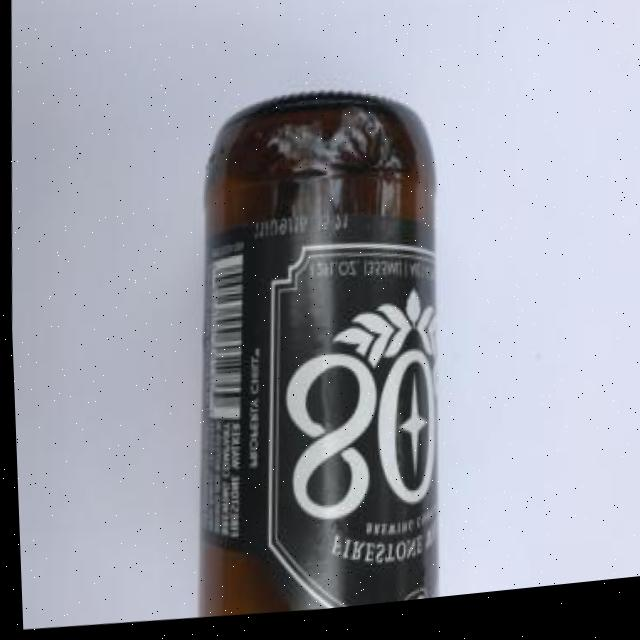glass: (168, 80, 462, 627)
